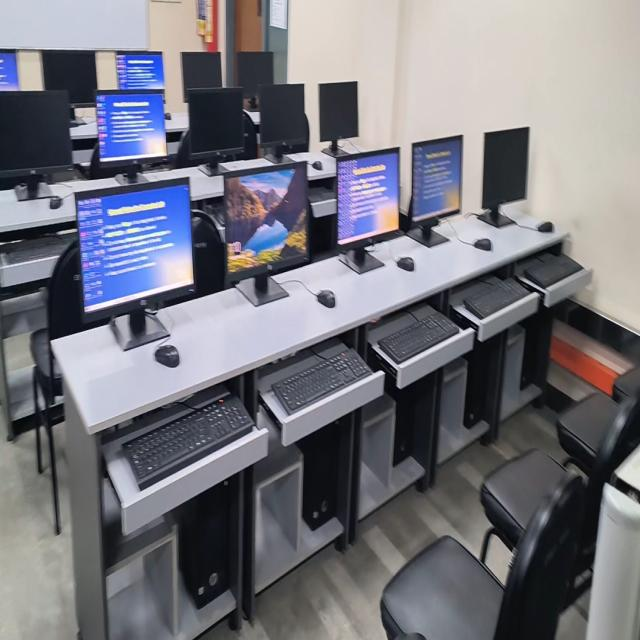Chair: (380, 476, 586, 639), (480, 386, 640, 575), (30, 241, 109, 429), (193, 218, 219, 295)
Cpu: (179, 483, 231, 609), (297, 421, 341, 530), (386, 373, 435, 468), (521, 296, 553, 390), (464, 343, 487, 428)
Fire Extinguisher: (197, 0, 218, 51)
Keyboard: (121, 396, 252, 489), (272, 350, 371, 415), (377, 313, 460, 364), (461, 281, 529, 320), (0, 234, 75, 268), (523, 254, 584, 290), (308, 187, 335, 203)
Monitor: (76, 178, 194, 322), (223, 162, 308, 276), (337, 148, 399, 245), (96, 91, 167, 174), (0, 91, 71, 171), (408, 136, 462, 224), (482, 127, 529, 217), (188, 88, 243, 154), (258, 85, 309, 156), (42, 51, 97, 104), (318, 81, 358, 141), (181, 52, 222, 102), (116, 52, 165, 90), (237, 52, 274, 98)
Mouse: (154, 345, 179, 367), (317, 290, 335, 308), (397, 257, 414, 271), (474, 238, 492, 251), (537, 222, 553, 232)
